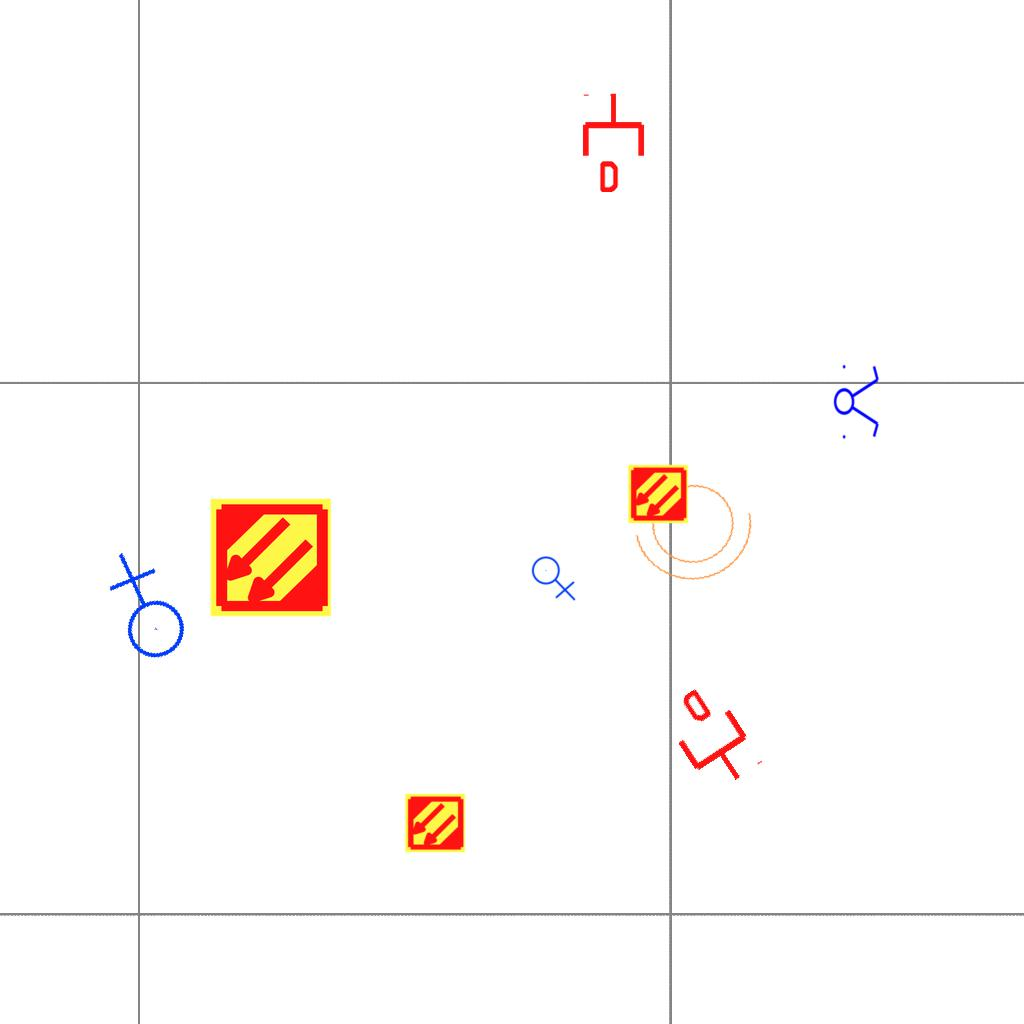ASR_Ansaugrauchmelder: (208, 495, 333, 620), (404, 792, 466, 854), (627, 463, 689, 525)
Datenanschluss_einfach: (655, 677, 768, 799), (579, 92, 648, 192)
Elektroanschluss_allgemein_230V_Geraeteanschlussdose_230V: (82, 549, 205, 675), (531, 552, 578, 601)
Scheinwerfer_fuer_Alarmbeleuchtung: (621, 460, 773, 596)
Serienschalter: (833, 359, 881, 443)
